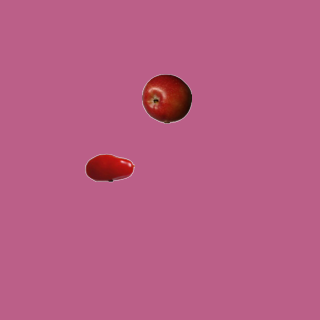Apple Braeburn: (141, 73, 191, 123)
Tomato 2: (84, 142, 134, 192)
